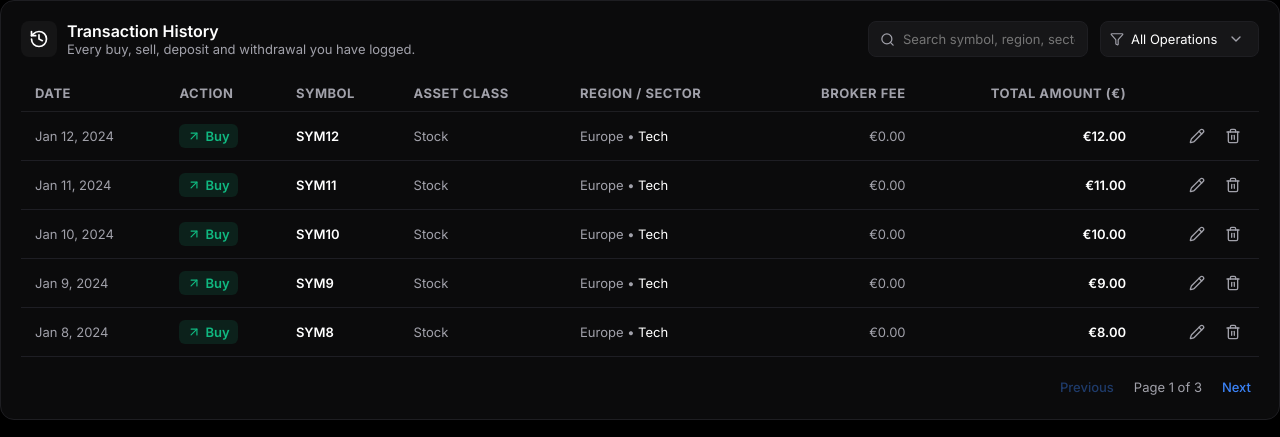
Scenario: TransactionHistoryTable pagination › pages back through older operations and disables Next on the last page
Expected: the text "SYM12" is shown, [282,112,400,160]
Click the button "Next". click: point(1236, 387)
box: [1214,375,1259,399]
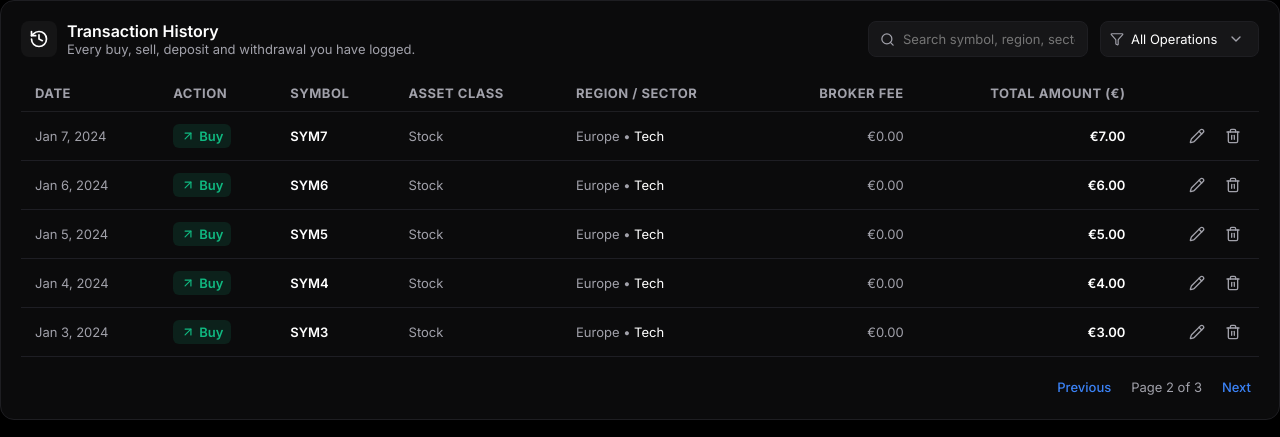
Expected: the text "SYM7" is shown, [276,112,394,160]
Expected: the text "Page 2 of 3" is shown, [1131,379,1202,395]
Click the button "Next". click: point(1236, 387)
box: [1214,375,1259,399]
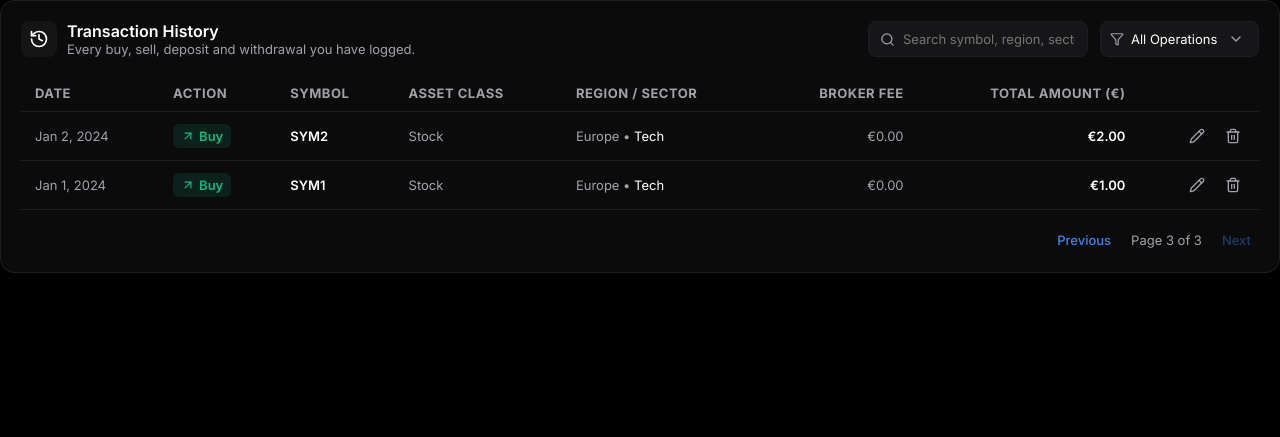
Expected: the number of rows is 3, [21,75,1259,112]; [21,112,1259,160]; [21,160,1259,210]
Expected: the button "Next" is disabled, [1214,228,1259,252]
Click the button "Previous". click: point(1084, 240)
box: [1049,228,1119,252]
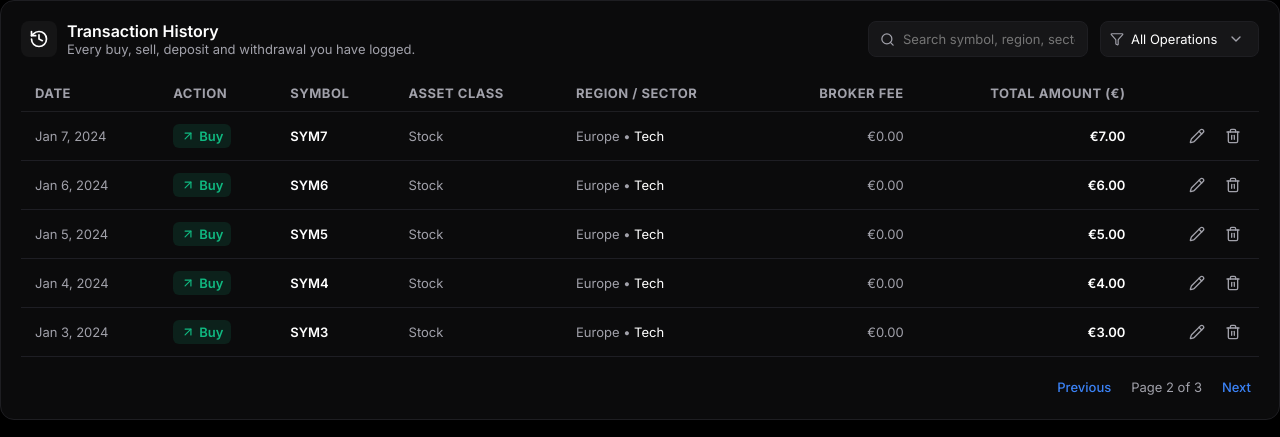
Expected: the text "Page 2 of 3" is shown, [1131,379,1202,395]
